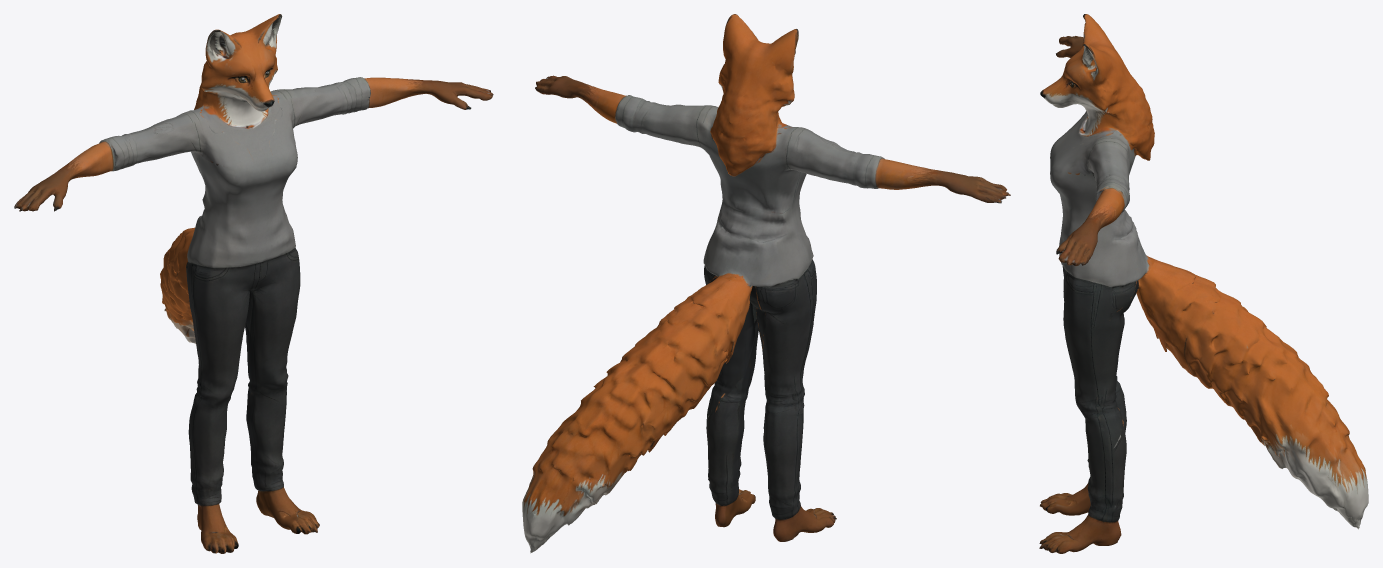
File: 05_Fox.fbx
The picture shows the model from 3 angles, left to right: view 1: azimuth 30°, elevation 25°; view 2: azimuth 150°, elevation 25°; view 3: azimuth 270°, elevation 25°; orthographic projection.
Visible parts, largest first — view 1: texture_mapping; view 2: texture_mapping; view 3: texture_mapping.
Part boxes in pixels (x1=…): texture_mapping: x1=14, y1=14, x2=493, y2=553; texture_mapping: x1=522, y1=14, x2=1010, y2=553; texture_mapping: x1=1039, y1=14, x2=1368, y2=553.
Bounding box in the file's own units: 0.9771 × 0.9966 × 0.5949.
Materials: 1 (1 with a texture image).
